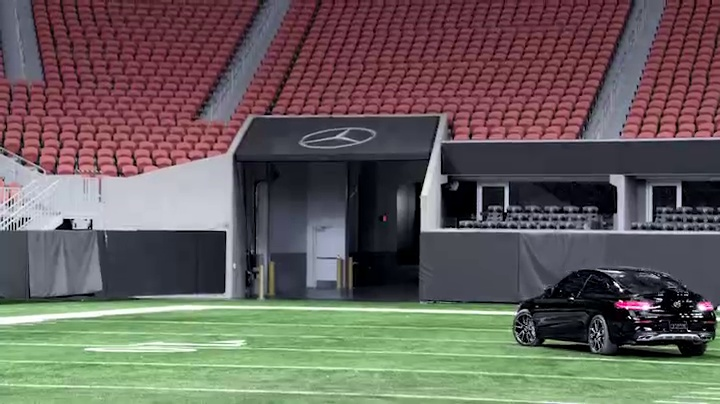amg: (510, 264, 716, 358)
